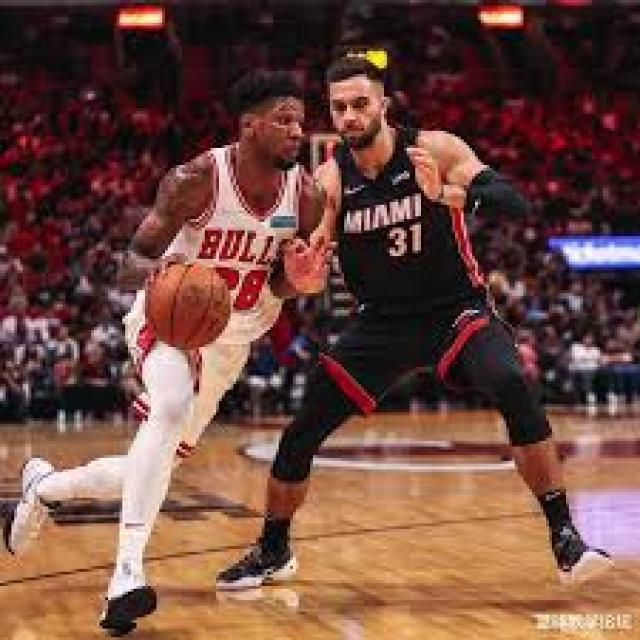rim: (150, 256, 234, 347)
